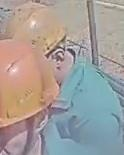helmet: (0, 46, 58, 129), (6, 1, 66, 56)
